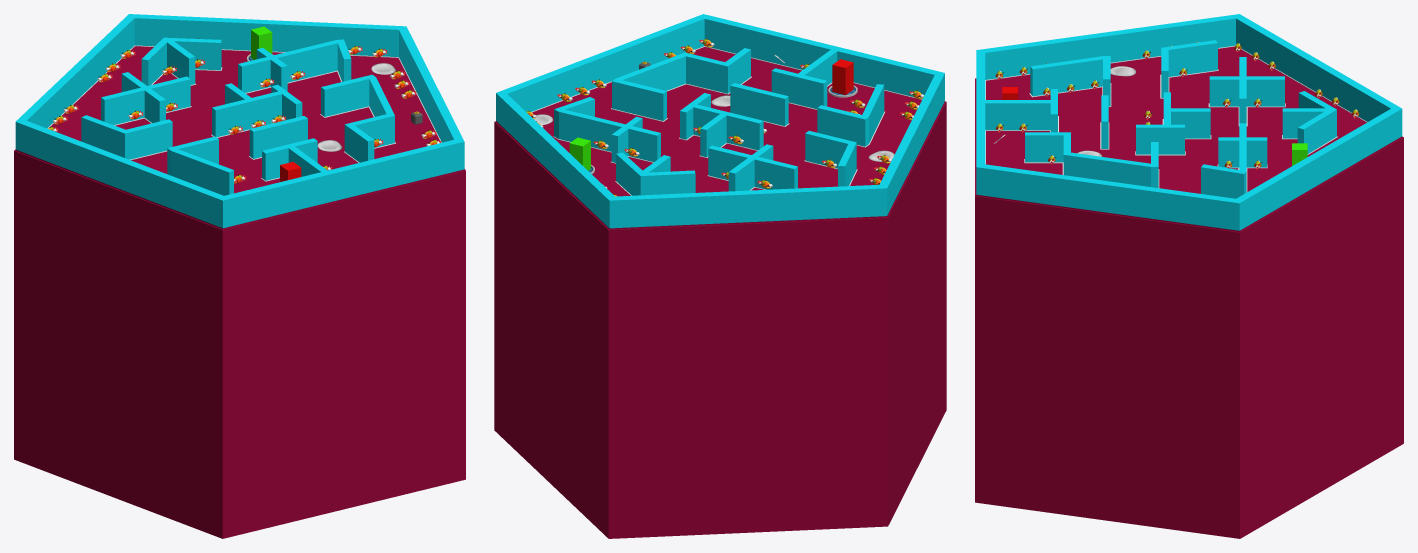
The model's file is Level_26.fbx.
3 views of the same model, side by side, from view 1: azimuth 30°, elevation 25°; view 2: azimuth 150°, elevation 25°; view 3: azimuth 270°, elevation 25° (orthographic).
Parts seen in each view (by area): view 1: Base_1, Compound, Base, Walls, Walls_6, Walls_12, Walls_23, Walls_4, Walls_9, Walls_13, Walls_5, Walls_1 (+14 smaller); view 2: Base_1, Compound, Base, Walls_4, Walls_23, Walls_1, Walls, Walls_12, Walls_8, Walls_11, Walls_9, Walls_13 (+15 smaller); view 3: Base_1, Compound, Base, Walls_16, Walls_6, Walls_20, Walls_5, Walls_14, Walls_19, Walls_15, Walls_7, Walls_10 (+4 smaller).
Boxes of the visible parts, x1,y1,x2,y2 form: Base_1: (14,149,465,538); Compound: (15,14,464,228); Base: (15,46,464,229); Walls: (211,91,281,137); Walls_6: (171,148,233,195); Walls_12: (274,40,339,83); Walls_23: (320,74,375,117); Walls_4: (249,116,307,159); Walls_9: (125,119,172,160); Walls_13: (101,87,145,125); Walls_5: (81,115,129,157); Walls_1: (261,138,317,181); Base_1: (494,101,946,538); Compound: (496,14,944,228); Base: (496,47,944,229); Walls_4: (730,83,789,126); Walls_23: (611,78,667,121); Walls_1: (771,68,827,109); Walls: (693,104,763,150); Walls_12: (557,109,628,152); Walls_8: (817,105,869,147); Walls_11: (640,170,695,195); Walls_9: (804,131,856,169); Walls_13: (753,156,797,189); Base_1: (975,78,1403,538); Compound: (976,14,1402,230); Base: (976,46,1402,231); Walls_16: (1208,76,1285,107); Walls_6: (1029,56,1104,97); Walls_20: (985,100,1055,130); Walls_5: (1162,40,1218,77); Walls_14: (1135,124,1185,155); Walls_19: (1201,164,1246,198); Walls_15: (1217,137,1267,168); Walls_7: (1024,132,1070,163); Walls_10: (1297,108,1337,154).
Bounding box in the file's own units: 200 × 165 × 190.
